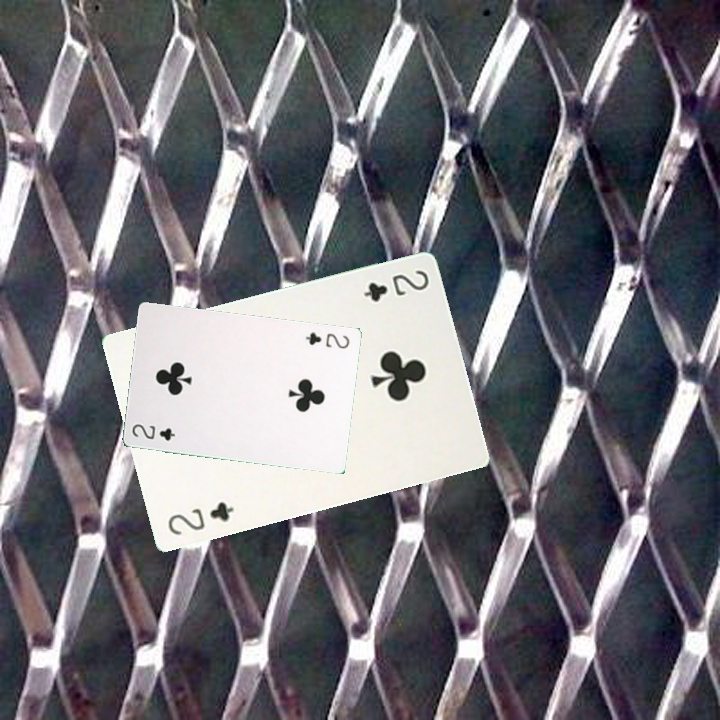2c: (164, 497, 237, 538), (359, 265, 432, 305), (301, 328, 352, 351), (128, 420, 178, 443)
